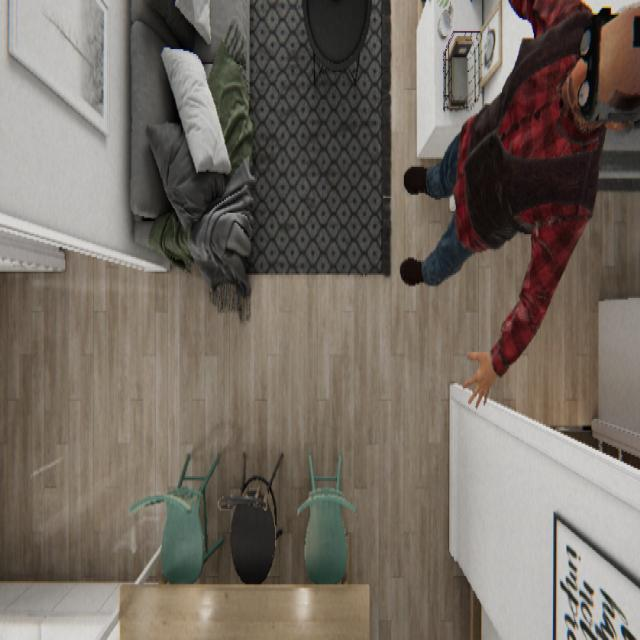Human: (400, 0, 638, 409)
